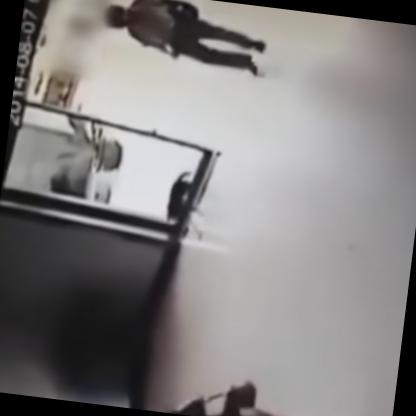Human Body: (97, 0, 275, 72)
